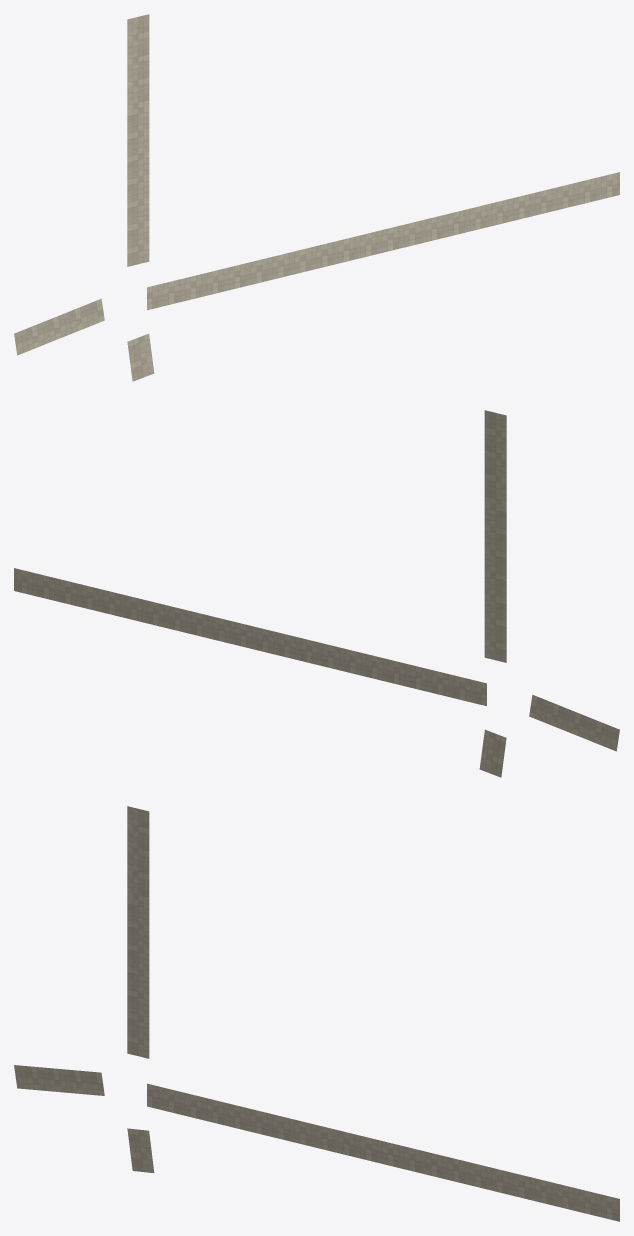
The model's file is roads.glb.
3 views of the same model, one above another, from view 1: azimuth 30°, elevation 25°; view 2: azimuth 150°, elevation 25°; view 3: azimuth 330°, elevation 25° (orthographic).
Parts seen in each view (by area): view 1: world; view 2: world; view 3: world.
Part boxes in pixels (x1=…): world: x1=14, y1=14, x2=619, y2=381; world: x1=14, y1=410, x2=619, y2=777; world: x1=14, y1=806, x2=619, y2=1221.
Bounding box in the file's own units: 138 × 79.33 × 0.
1 material, 1 textured.
